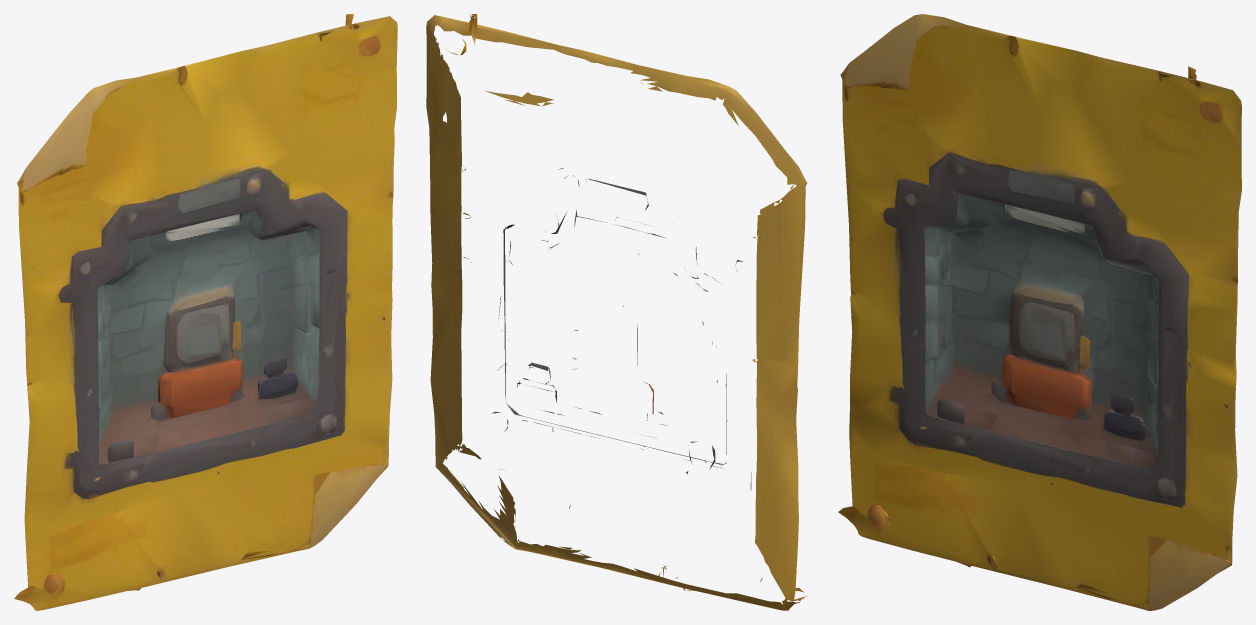
The model's file is poster_2_idle.glb.
The picture shows the model from 3 angles, left to right: view 1: azimuth 30°, elevation 25°; view 2: azimuth 150°, elevation 25°; view 3: azimuth 330°, elevation 25°; orthographic projection. The views are drawn at different scales.
Visible parts, largest first — view 1: tripo_node_4c833f05-2c24-4490-b45d-56984f415816; view 2: tripo_node_4c833f05-2c24-4490-b45d-56984f415816; view 3: tripo_node_4c833f05-2c24-4490-b45d-56984f415816.
Boxes of the visible parts, x1,y1,x2,y2 form: tripo_node_4c833f05-2c24-4490-b45d-56984f415816: (14,14,397,610); tripo_node_4c833f05-2c24-4490-b45d-56984f415816: (426,14,807,610); tripo_node_4c833f05-2c24-4490-b45d-56984f415816: (838,14,1241,610).
Bounding box in the file's own units: 0.4579 × 0.6002 × 0.0203.
Materials: 1 (1 with a texture image).
